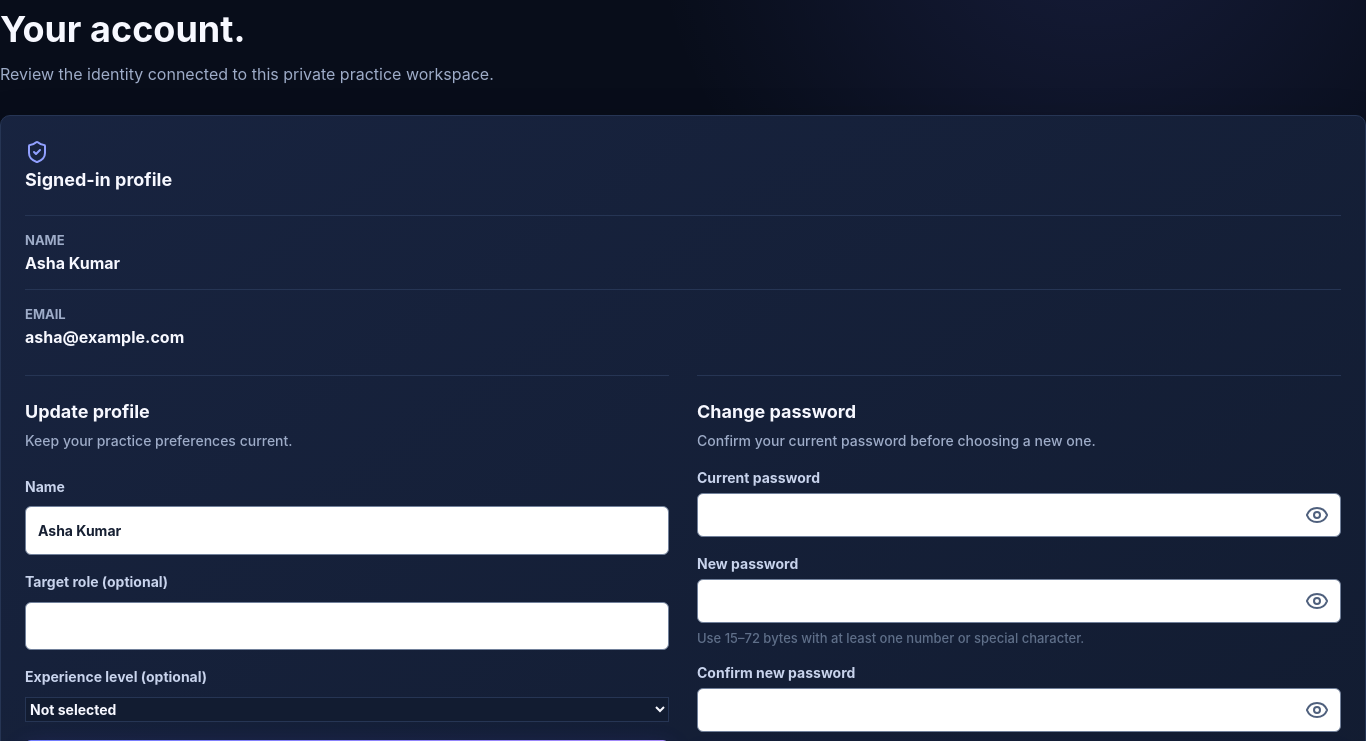
Test: AccountPage › keeps entered profile values after a safe server field error
This screenshot has width=1366, height=741.
In the field labelled "Target role (optional)": [347, 626] box x1=25 y1=602 x2=669 y2=650, type "A role still being edited"
(page scrolled)
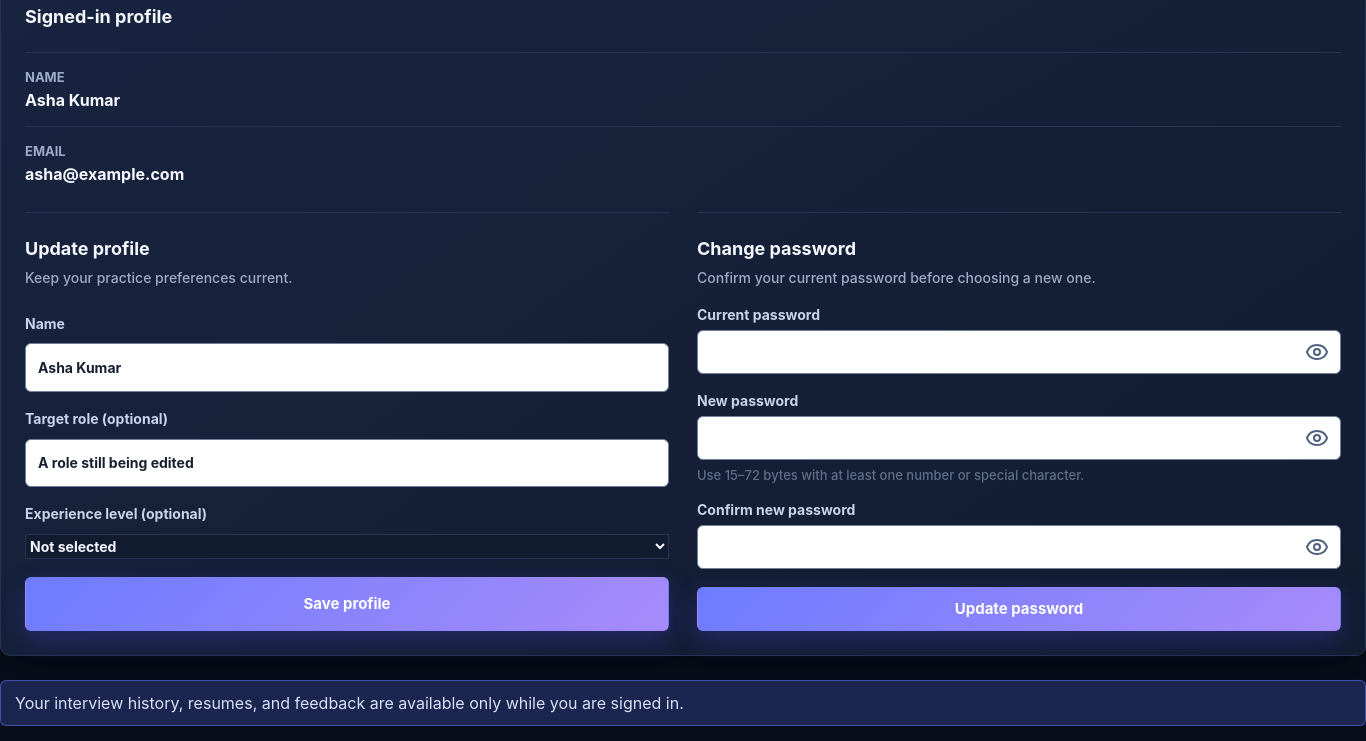
Click the button "Save profile": [347, 604] box x1=25 y1=577 x2=669 y2=631
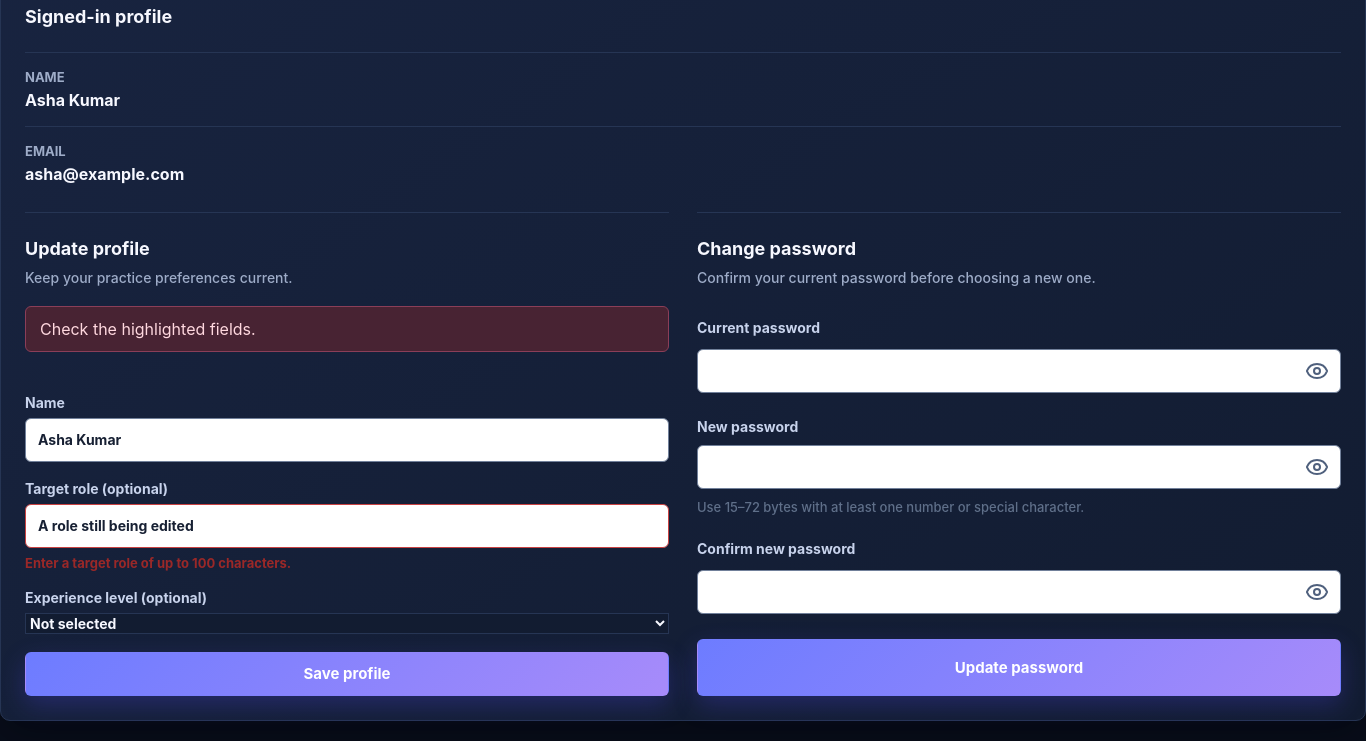
Result: the text "Check the highlighted fields." is shown at x1=25 y1=306 x2=669 y2=352
